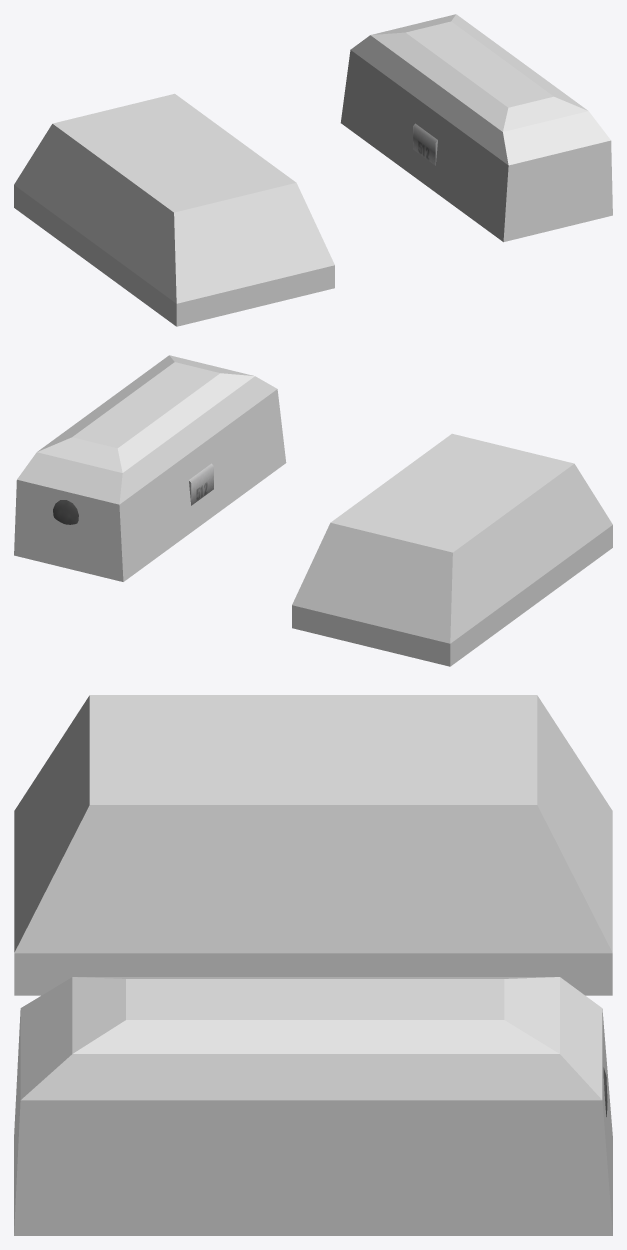
File: radial_tanks.fbx
The picture shows the model from 3 angles, top to bottom: view 1: azimuth 30°, elevation 25°; view 2: azimuth 150°, elevation 25°; view 3: azimuth 270°, elevation 25°; orthographic projection. The views are drawn at different scales.
Parts seen in each view (by area): view 1: col_Storage, col_ptank, ptank; view 2: col_Storage, col_ptank, ptank; view 3: col_Storage, col_ptank.
Boxes of the visible parts, left/top/right/bottom form: col_Storage: left=14, top=93, right=334, bottom=326; col_ptank: left=340, top=14, right=612, bottom=242; ptank: left=413, top=123, right=437, bottom=165; col_Storage: left=292, top=433, right=612, bottom=666; col_ptank: left=14, top=355, right=286, bottom=581; ptank: left=53, top=463, right=213, bottom=524; col_Storage: left=14, top=695, right=612, bottom=995; col_ptank: left=14, top=977, right=612, bottom=1235.
Size of the model in its own units: 284 by 184 by 67.48.
1 material, 1 textured.
